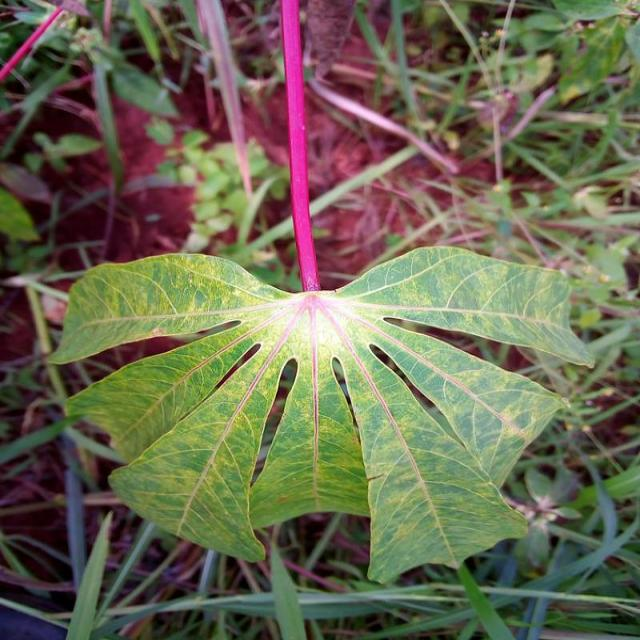cassava leaf: (48, 1, 594, 585)
